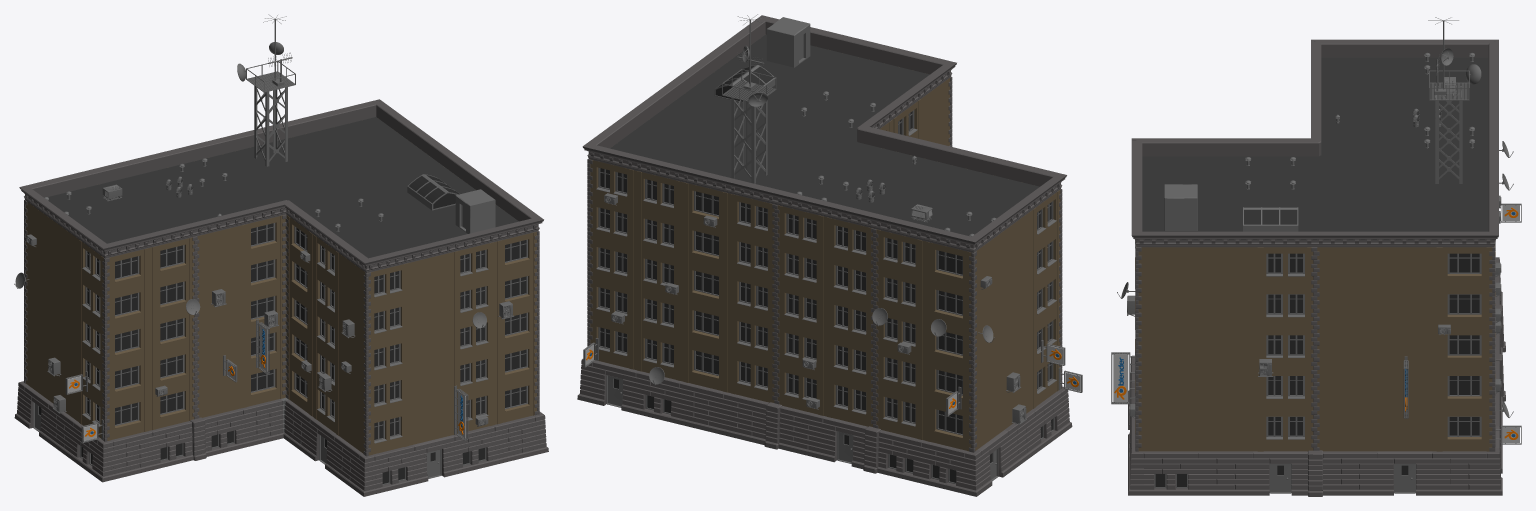
Rendered from building1.glb.
3 views of the same model, side by side, from view 1: azimuth 30°, elevation 25°; view 2: azimuth 150°, elevation 25°; view 3: azimuth 270°, elevation 25° (orthographic). The views are drawn at different scales.
Parts seen in each view (by area): view 1: GN Instance (×107), building_base; view 2: GN Instance (×99), building_base; view 3: GN Instance (×56), building_base.
Part boxes in pixels (x1=…): GN Instance (×107): x1=22, y1=14, x2=540, y2=496; building_base: x1=48, y1=117, x2=518, y2=258; GN Instance (×99): x1=585, y1=14, x2=1064, y2=496; building_base: x1=610, y1=34, x2=1039, y2=236; GN Instance (×56): x1=1111, y1=17, x2=1521, y2=496; building_base: x1=1142, y1=57, x2=1488, y2=231.
Size of the model in its own units: 33.79 by 29.68 by 27.34.
